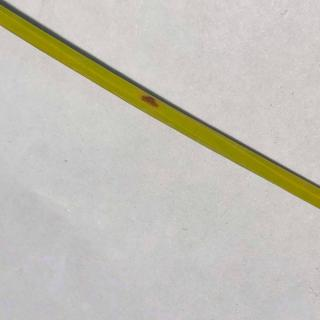Blast: (127, 80, 170, 123)
